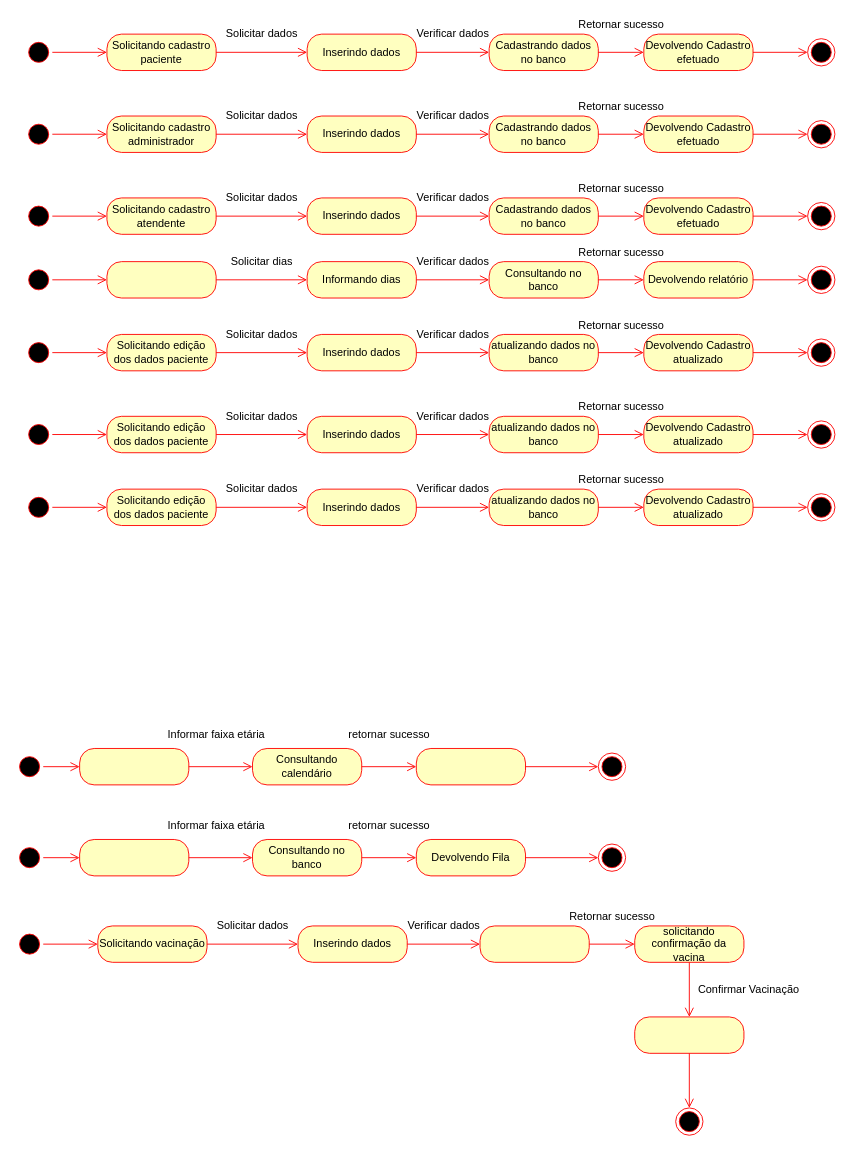
Some shapes in this 851 by 1151 pixel diagram are drawn without their labels. Each missing label, with the centre of its shape:
"Atualizando paciente vacinado no banco" belongs at (689,1034).
"Buscando paciente" belongs at (534,943).
"Devolvendo calendário" belongs at (470,766).
"Solicitando o relatório" belongs at (161,279).
"Solicitando visualização da fila" belongs at (134,857).
"Solicitando visualização do calendário" belongs at (134,766).
